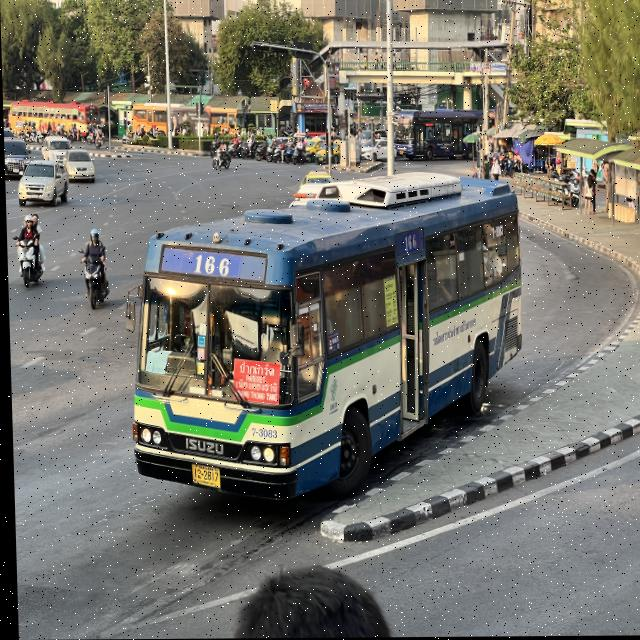BMTA-bus: (125, 174, 522, 504)
Bus Line Number: (188, 248, 235, 281)
Bus Side Number: (246, 423, 277, 442)
Destination Sign: (227, 356, 279, 406)
